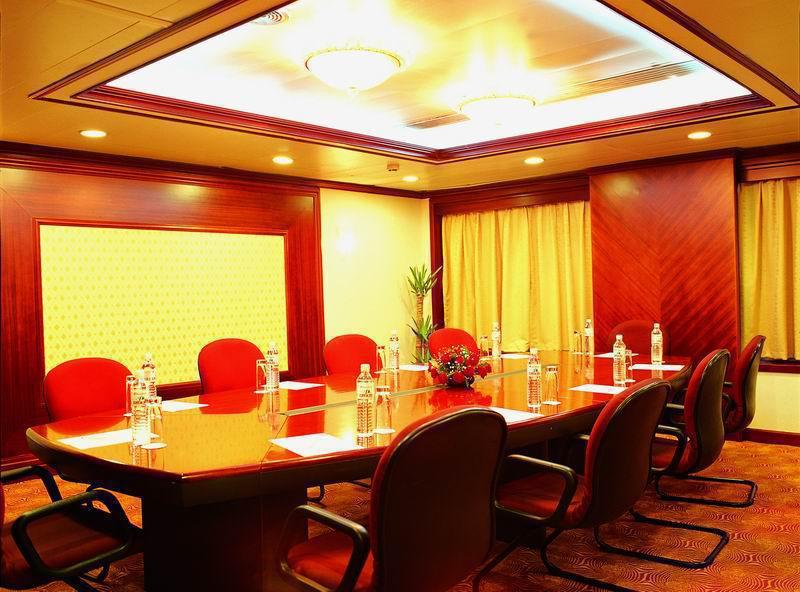Ventana: (447, 211, 592, 346), (735, 175, 797, 368)
